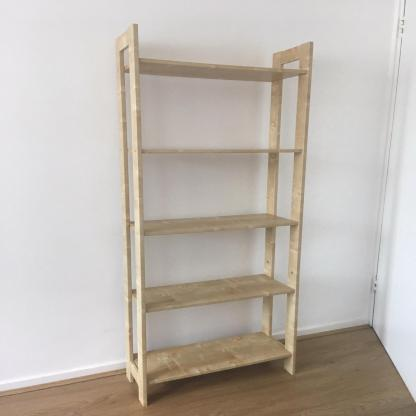lamp: (113, 21, 316, 410)
